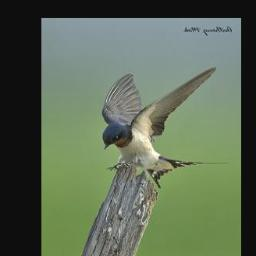Swallow: (101, 63, 230, 187)
